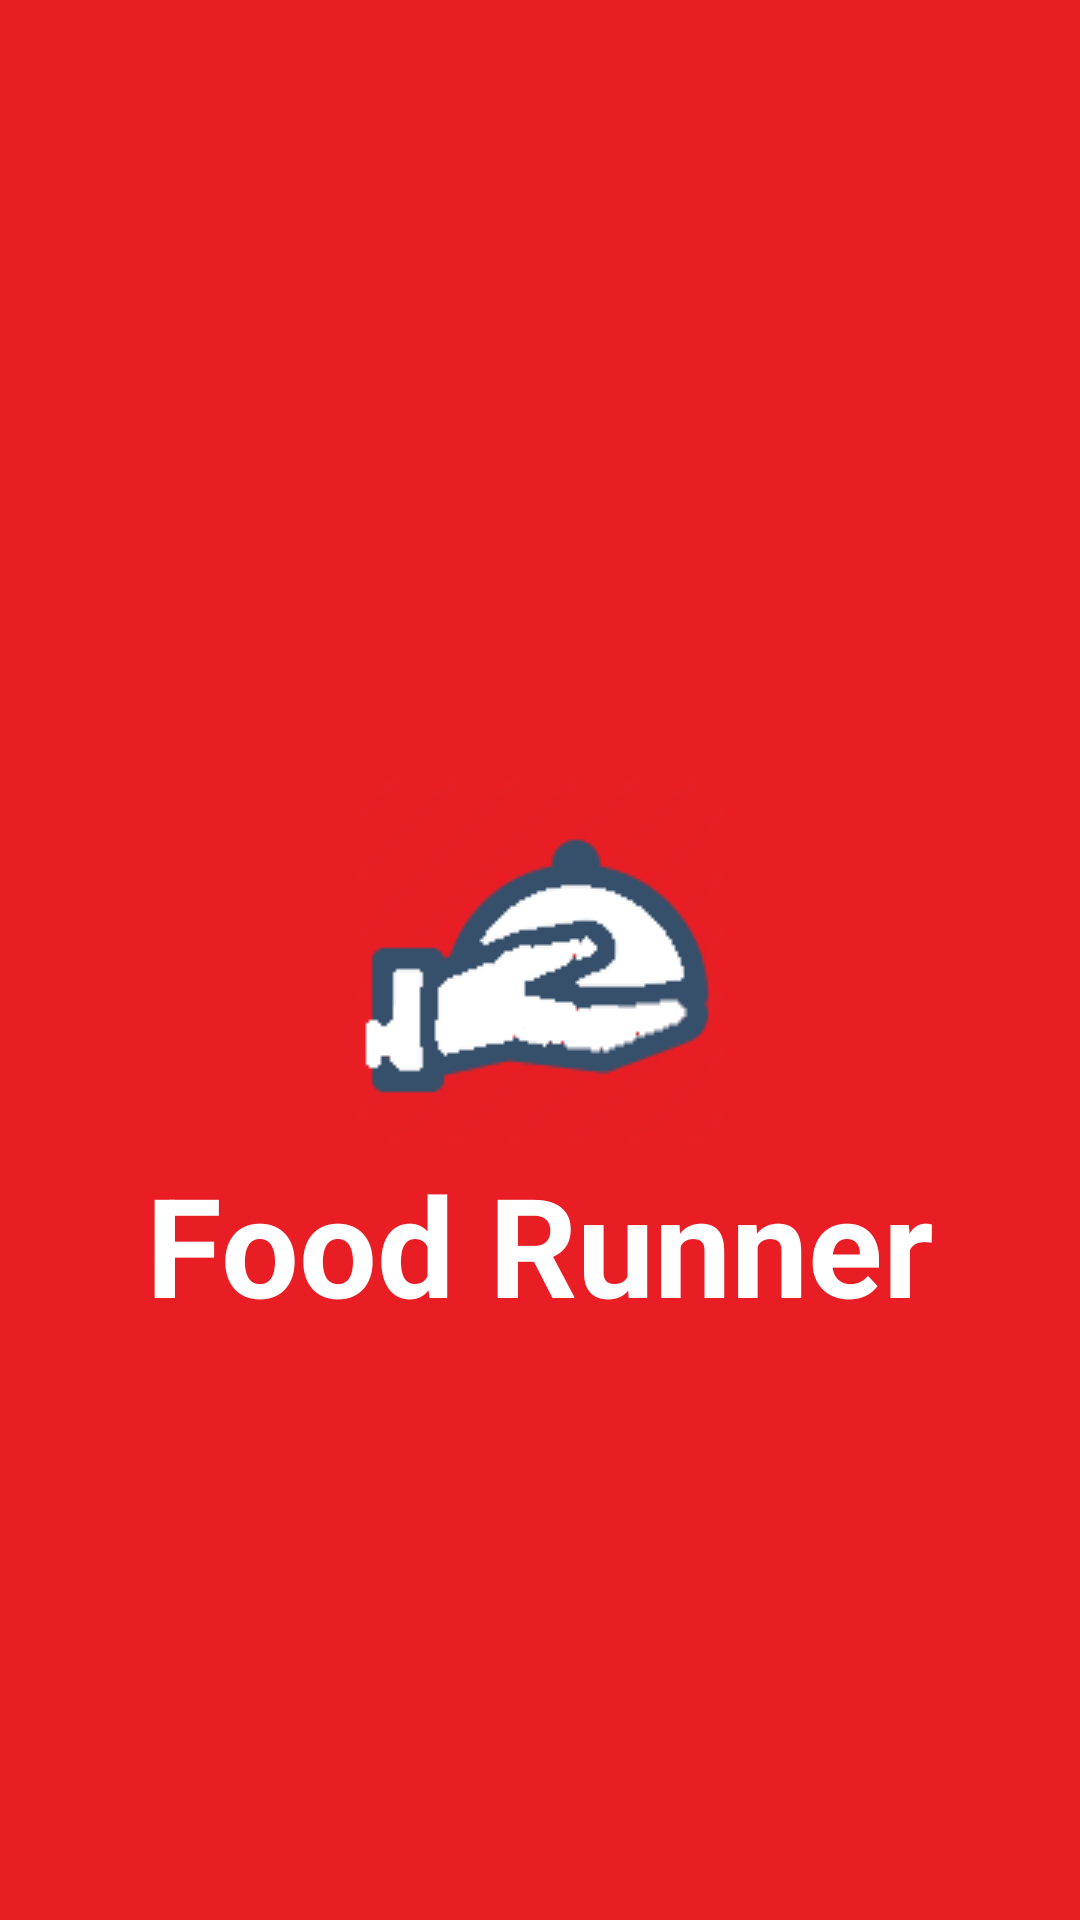

Icon click points for this 1080*1920 phone screenshot, format point (x, y):
foodapp: point (537, 966)
